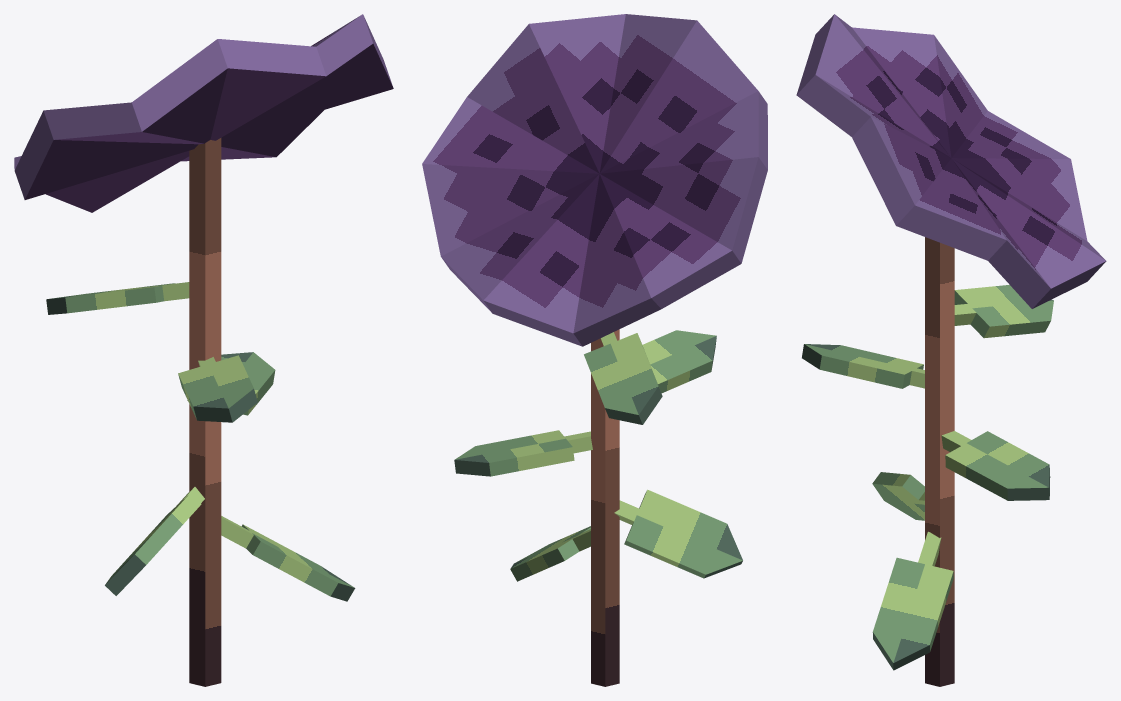
File: moon_flower.gltf
The picture shows the model from 3 angles, left to right: view 1: azimuth 30°, elevation 25°; view 2: azimuth 150°, elevation 25°; view 3: azimuth 270°, elevation 25°; orthographic projection. The views are drawn at different scales.
Visible parts, largest first — view 1: cylinder (×2), cube (×6); view 2: cylinder (×2), cube (×5); view 3: cylinder (×2), cube (×6).
Part boxes in pixels (x1,y1,x2,y2): cylinder (×2): (14,14,393,686); cube (×6): (46,283,355,601); cylinder (×2): (422,14,767,686); cube (×5): (454,330,742,581); cylinder (×2): (796,14,1106,686); cube (×6): (802,285,1053,670).
Size of the model in its own units: 0.75 by 1.5 by 0.6549.
1 material, 1 textured.
